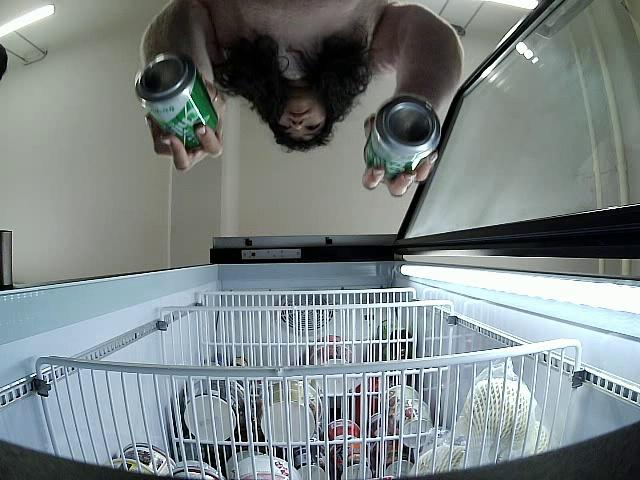00_hand: (141, 79, 233, 176), (360, 113, 438, 197)
12_chilsungCider: (134, 57, 219, 151), (366, 97, 441, 184)
